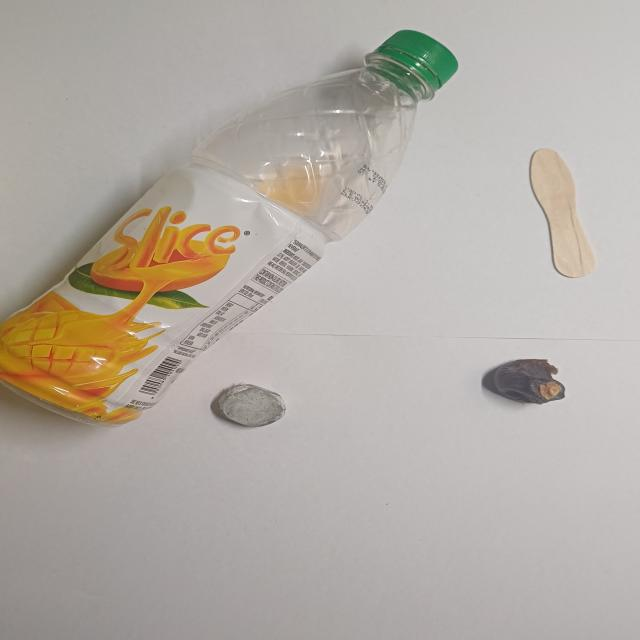Date-Bio: (480, 356, 568, 406)
Eraser-NonBio: (208, 381, 288, 430)
Plastic-NonBio: (0, 2, 515, 453)
Wooden Spoon-Bio: (528, 146, 597, 279)
